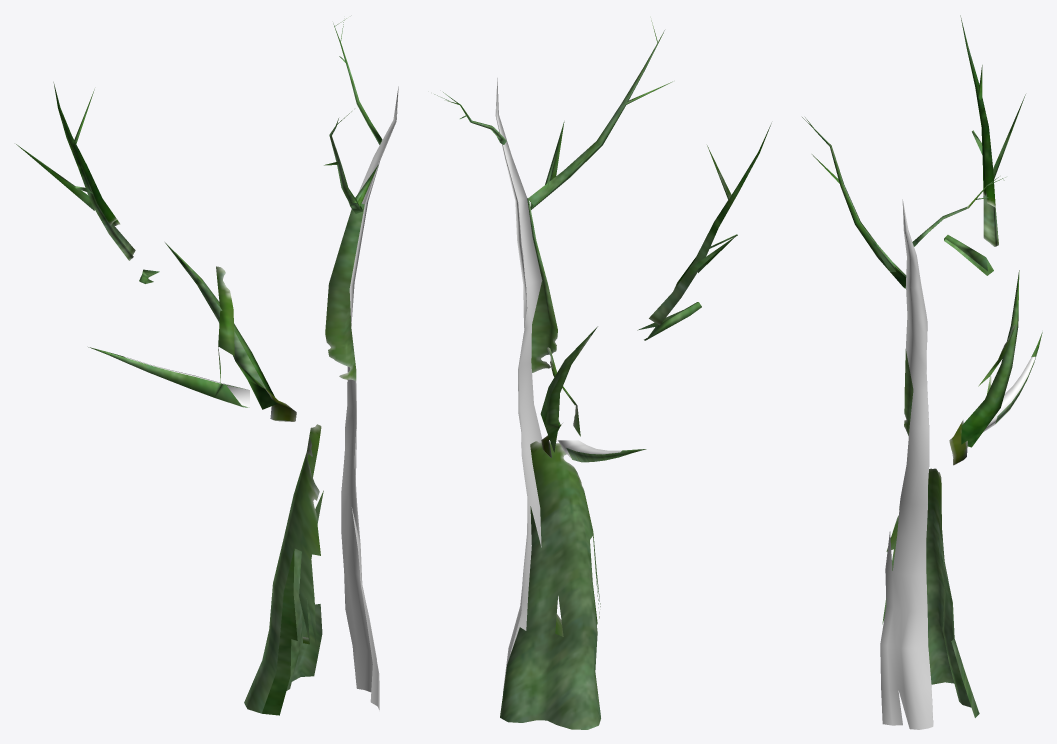
File: Tree5FBX.fbx
3 renders of one model, left to right at view 1: azimuth 30°, elevation 25°; view 2: azimuth 150°, elevation 25°; view 3: azimuth 270°, elevation 25°, orthographic. The views are drawn at different scales.
Visible parts, largest first — view 1: Tree5; view 2: Tree5; view 3: Tree5.
Part boxes in pixels (bbox=[...]): Tree5: bbox=[16, 18, 398, 715]; Tree5: bbox=[434, 20, 771, 729]; Tree5: bbox=[802, 15, 1042, 729].
Bounding box in the file's own units: 284 × 552 × 206.
